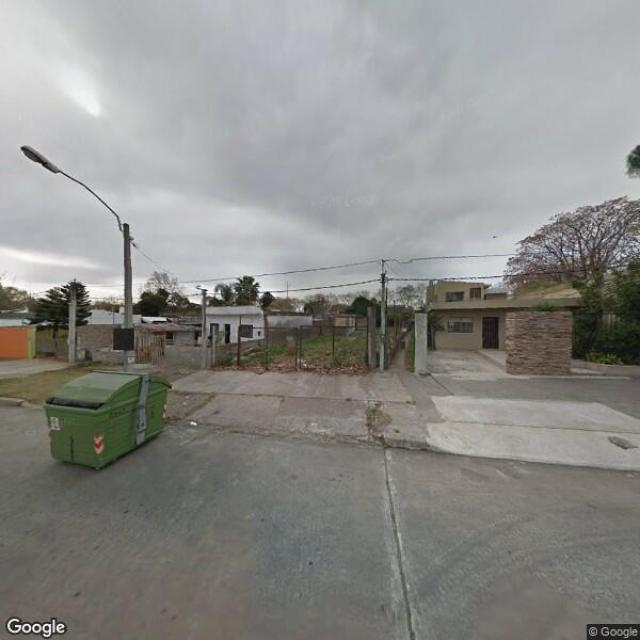garbage container: (35, 356, 184, 480)
